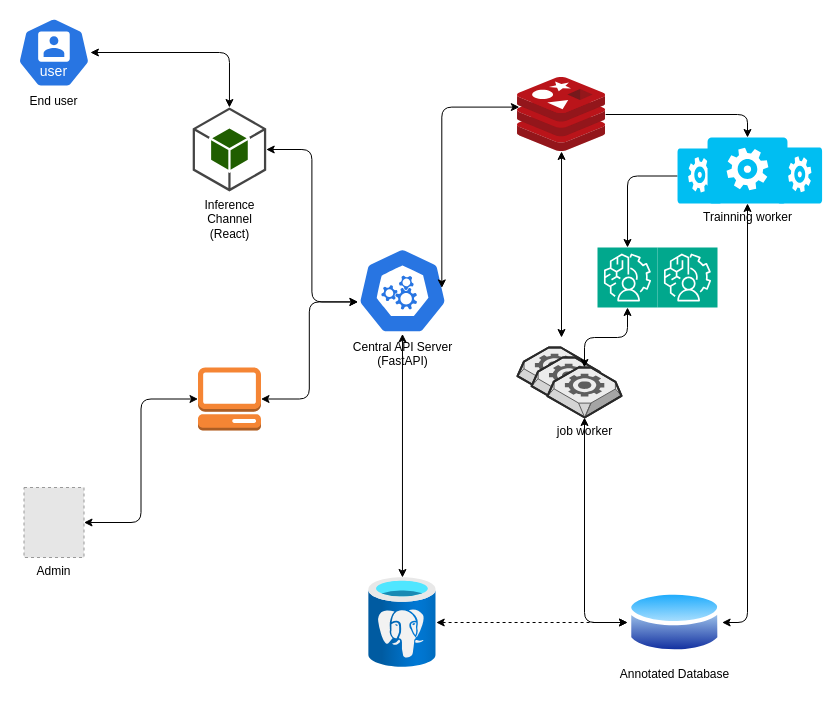
This 840x706 diagram has some shape labels left out. Grey dashed boxes stand in for pictures. The box of each missing label's shape, as (x1, y1, x2, y2) in pixels:
Management Channel: (197, 366, 261, 430)
PostgresSQL: (368, 577, 436, 667)
Redis Server: (517, 77, 605, 151)
